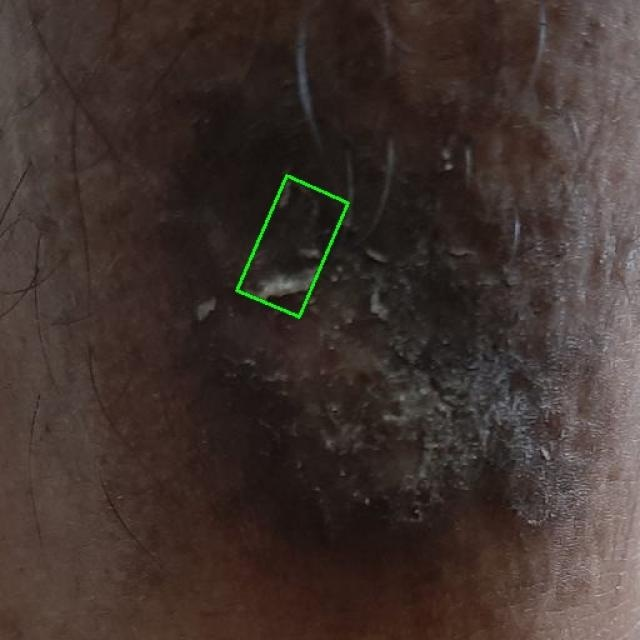Contact Dermatitis: (237, 176, 349, 317)
